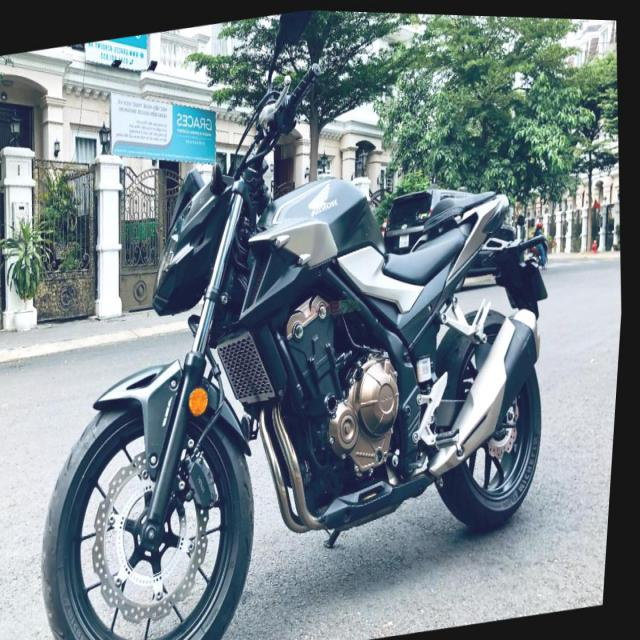CB500F: (14, 99, 582, 639)
